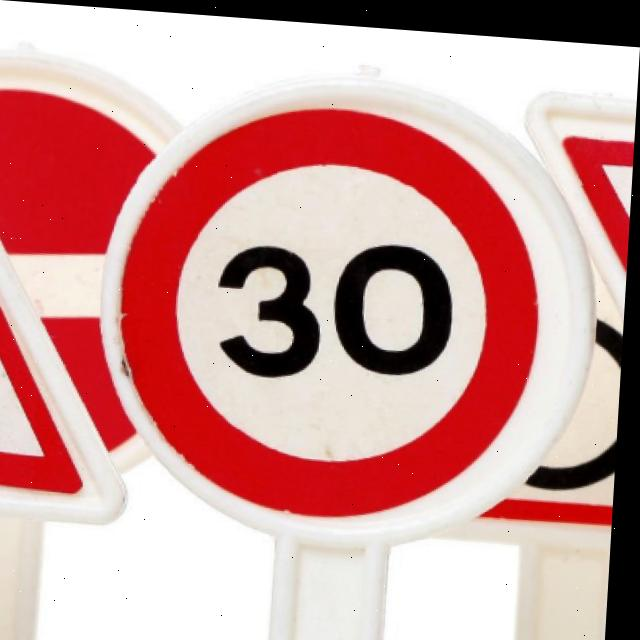Speed limit 30: (93, 58, 606, 548)
